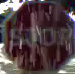Stop: (3, 2, 74, 73)
